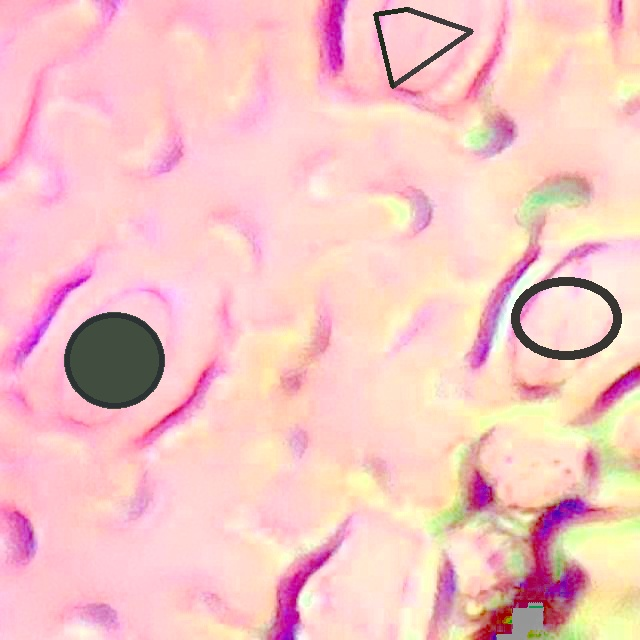close: (65, 312, 163, 407), (510, 277, 621, 360), (373, 7, 473, 88)
